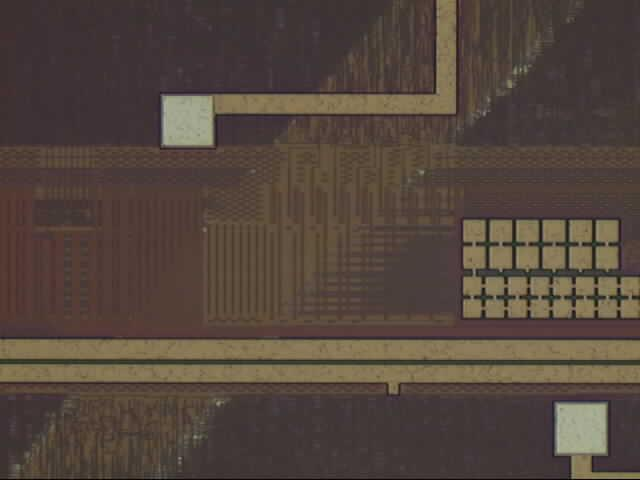COATING BAD: (1, 2, 594, 480)
